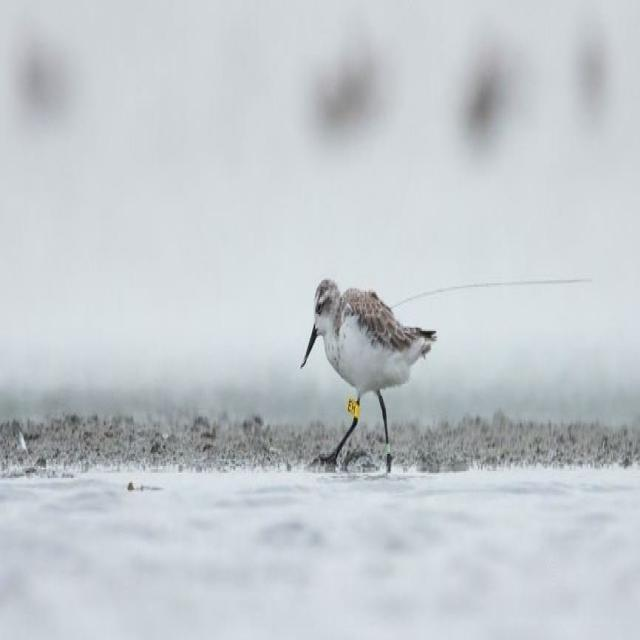Sandpiper: (300, 270, 434, 468)
